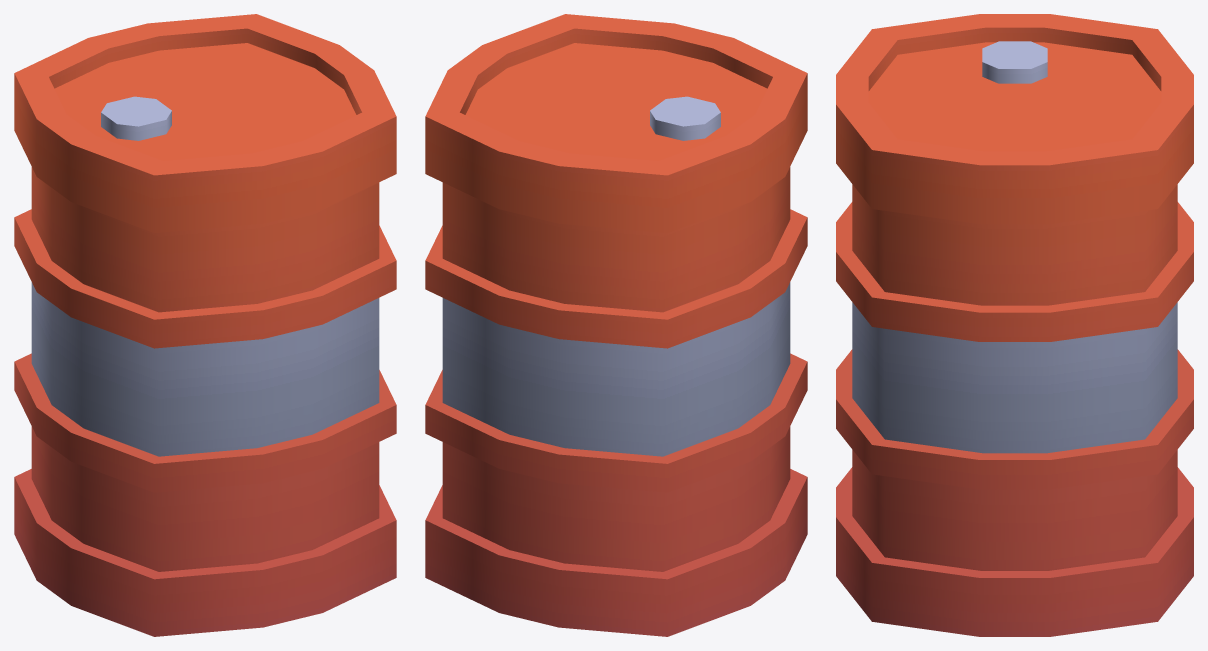
Rendered from barrel.glb.
3 renders of one model, left to right at view 1: azimuth 30°, elevation 25°; view 2: azimuth 150°, elevation 25°; view 3: azimuth 270°, elevation 25°, orthographic. The views are drawn at different scales.
Visible parts, largest first — view 1: barrel; view 2: barrel; view 3: barrel.
Part boxes in pixels (left/top/right/bottom): barrel: left=14, top=14, right=396, bottom=636; barrel: left=425, top=14, right=807, bottom=636; barrel: left=836, top=14, right=1193, bottom=636.
Size of the model in its own units: 0.2365 by 0.344 by 0.2365.
Materials: 1 (1 with a texture image).
